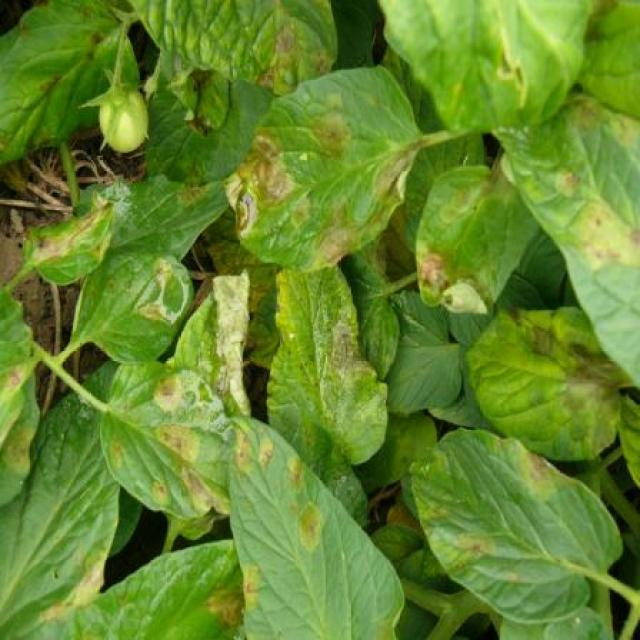Early Blight: (406, 417, 624, 612), (498, 93, 639, 384), (224, 418, 403, 639), (228, 68, 413, 262), (271, 260, 386, 500), (464, 316, 640, 463), (0, 0, 138, 164), (104, 360, 234, 520), (132, 0, 338, 99), (419, 137, 527, 320), (70, 241, 194, 363), (30, 201, 114, 285)
